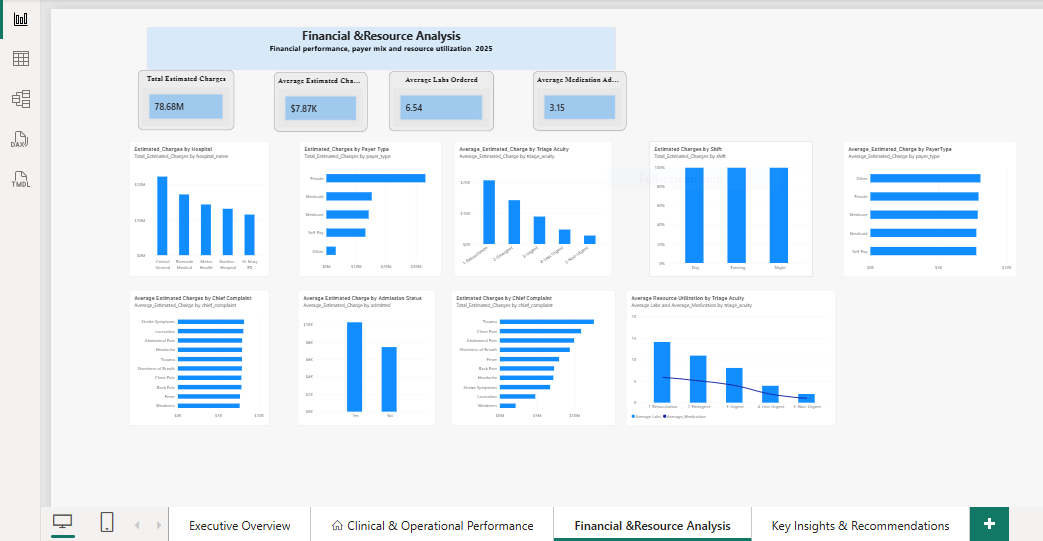

Layout of this report page (visuals, bound fields, positions):
{"tool":"powerbi","page":{"name":"Financial &Resource Analysis","canvas":[3840,2160],"ordinal":2},"visuals":[{"type":"cardVisual","title":"Total Estimated Charges","fields":{"Data":["emergency_department_dataset.Total_Estimated_Charges"]},"box":[279.6,196,308.6,193.1],"z":0},{"type":"cardVisual","title":"Average Estimated Chargess","fields":{"Data":["emergency_department_dataset.Average_Estimated_Charge"]},"box":[716.6,202.4,300,191.4],"z":1000},{"type":"cardVisual","title":"Average Labs Ordered","fields":{"Data":["emergency_department_dataset.Average Labs"]},"box":[1086.1,199.2,336.2,193.1],"z":2000},{"type":"cardVisual","title":"Average Medication Administered","fields":{"Data":["emergency_department_dataset.Average_Medication"]},"box":[1548.9,199.2,300,191.4],"z":3000},{"type":"clusteredColumnChart","title":"Estimated_Charges by Hospital","fields":{"Category":["emergency_department_dataset.hospital_name"],"Y":["emergency_department_dataset.Total_Estimated_Charges"]},"box":[250.6,424.2,451.3,435.9],"z":4000},{"type":"clusteredColumnChart","title":"Average_Estimated_Charge by Triage Acuity","fields":{"Category":["emergency_department_dataset.triage_acuity"],"Y":["emergency_department_dataset.Average_Estimated_Charge"]},"box":[1295,424.2,507.7,435.9],"z":5000},{"type":"clusteredBarChart","title":"Estimated_Charges by Payer Type","fields":{"Category":["emergency_department_dataset.payer_type"],"Y":["emergency_department_dataset.Total_Estimated_Charges"]},"box":[796.9,424.2,459,435.9],"z":6000},{"type":"barChart","title":"Average_Estimated_Charge by PayerType","fields":{"Category":["emergency_department_dataset.payer_type"],"Y":["emergency_department_dataset.Average_Estimated_Charge"]},"box":[2545,424.2,559.1,437],"z":7000},{"type":"clusteredBarChart","title":"Estimated Charges by Chief Complaint","fields":{"Category":["emergency_department_dataset.chief_complaint"],"Y":["emergency_department_dataset.Total_Estimated_Charges"]},"box":[1285.4,903,528.2,435.9],"z":8000},{"type":"clusteredBarChart","title":"Average Estimated Charges by Chief Complaint","fields":{"Category":["emergency_department_dataset.chief_complaint"],"Y":["emergency_department_dataset.Average_Estimated_Charge"]},"box":[250.6,903,451.3,435.9],"z":9000},{"type":"lineClusteredColumnComboChart","title":"Average Resource Utilization by Triage Acuity","fields":{"Category":["emergency_department_dataset.triage_acuity"],"Y":["emergency_department_dataset.Average Labs"],"Y2":["emergency_department_dataset.Average_Medication"]},"box":[1847.7,903,674.8,437],"z":10000},{"type":"clusteredColumnChart","title":"Average Estimated Charge by Admission Status","fields":{"Category":["emergency_department_dataset.admitted"],"Y":["emergency_department_dataset.Average_Estimated_Charge"]},"box":[793.7,903,441,435.9],"z":11000},{"type":"hundredPercentStackedColumnChart","title":"Estimated Charges by Shift","fields":{"Category":["emergency_department_dataset.shift"],"Y":["emergency_department_dataset.Total_Estimated_Charges"]},"box":[1921.6,424.2,527,437],"z":12000},{"type":"textbox","box":[307.7,56.4,1505.1,138.5],"z":13000}]}

Visuals, with their boxes on the page's 3840x2160 design canvas (x1, y1, x2, y2). These are canvas units, not pixel positions in the 1043x541 screenshot, which may show the page scaled, cropped or inside an application window:
"Total Estimated Charges" cardVisual: x1=280 y1=196 x2=588 y2=389
"Average Estimated Chargess" cardVisual: x1=717 y1=202 x2=1017 y2=394
"Average Labs Ordered" cardVisual: x1=1086 y1=199 x2=1422 y2=392
"Average Medication Administered" cardVisual: x1=1549 y1=199 x2=1849 y2=391
"Estimated_Charges by Hospital" clusteredColumnChart: x1=251 y1=424 x2=702 y2=860
"Average_Estimated_Charge by Triage Acuity" clusteredColumnChart: x1=1295 y1=424 x2=1803 y2=860
"Estimated_Charges by Payer Type" clusteredBarChart: x1=797 y1=424 x2=1256 y2=860
"Average_Estimated_Charge by PayerType" barChart: x1=2545 y1=424 x2=3104 y2=861
"Estimated Charges by Chief Complaint" clusteredBarChart: x1=1285 y1=903 x2=1814 y2=1339
"Average Estimated Charges by Chief Complaint" clusteredBarChart: x1=251 y1=903 x2=702 y2=1339
"Average Resource Utilization by Triage Acuity" lineClusteredColumnComboChart: x1=1848 y1=903 x2=2522 y2=1340
"Average Estimated Charge by Admission Status" clusteredColumnChart: x1=794 y1=903 x2=1235 y2=1339
"Estimated Charges by Shift" hundredPercentStackedColumnChart: x1=1922 y1=424 x2=2449 y2=861
textbox: x1=308 y1=56 x2=1813 y2=195
